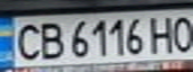1: (87, 16, 109, 56), (106, 16, 127, 56)
6: (124, 15, 151, 56), (66, 17, 90, 59)
B: (33, 19, 66, 61)
C: (6, 20, 45, 62)
H: (148, 12, 178, 54)
O: (169, 12, 193, 54)
